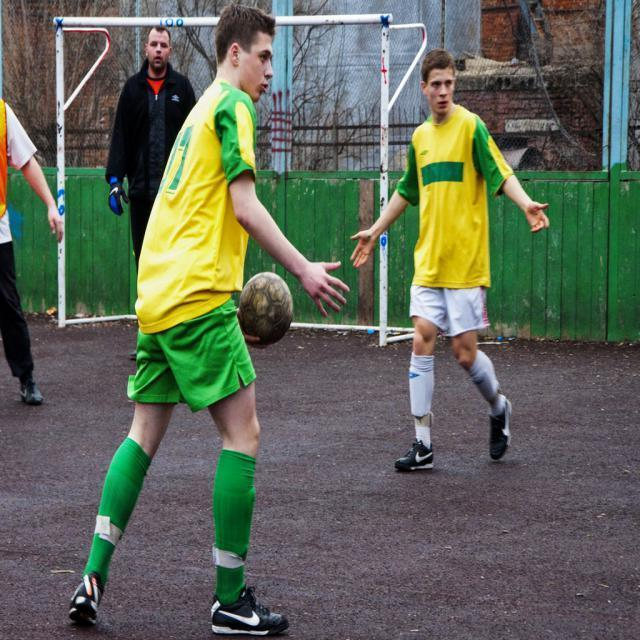ball: (239, 272, 296, 346)
